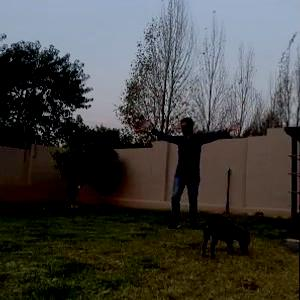takeoff: (143, 114, 254, 240)
